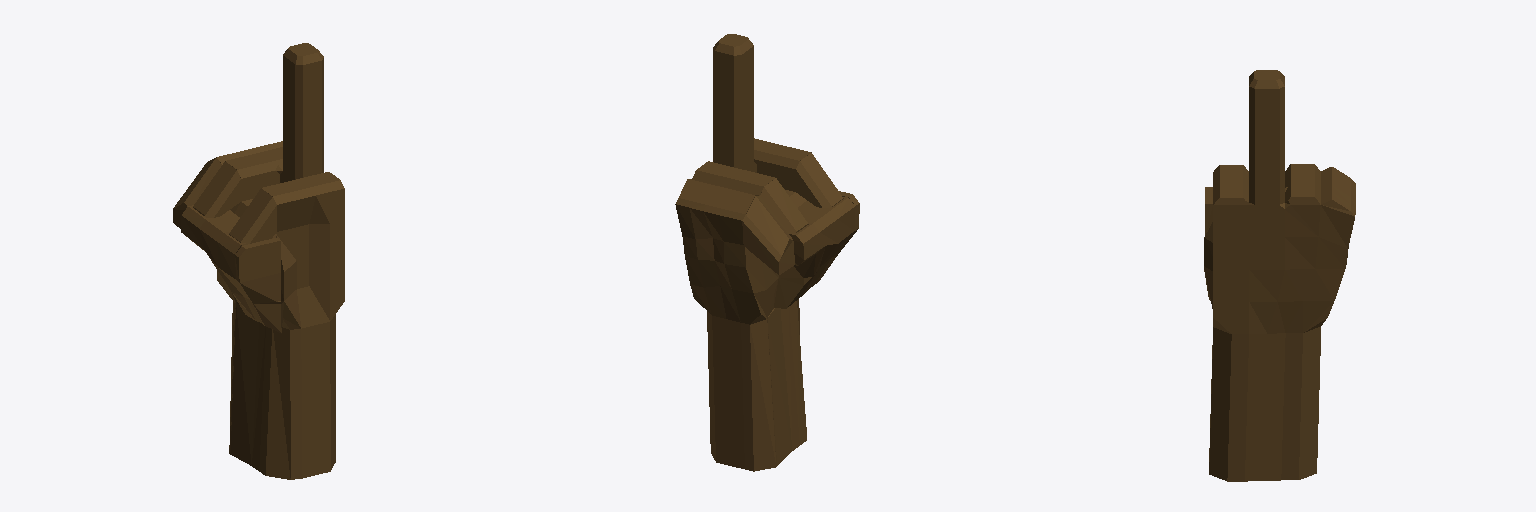
Rendered from finger.obj.
3 views of the same model, side by side, from view 1: azimuth 30°, elevation 25°; view 2: azimuth 150°, elevation 25°; view 3: azimuth 270°, elevation 25° (orthographic).
Visible parts, largest first — view 1: Cube.001_Cube.002; view 2: Cube.001_Cube.002; view 3: Cube.001_Cube.002.
Boxes of the visible parts, x1,y1,x2,y2 form: Cube.001_Cube.002: [173, 43, 344, 479]; Cube.001_Cube.002: [675, 34, 859, 471]; Cube.001_Cube.002: [1204, 70, 1355, 481].
Size of the model in its own units: 1.79 by 6.21 by 2.14.